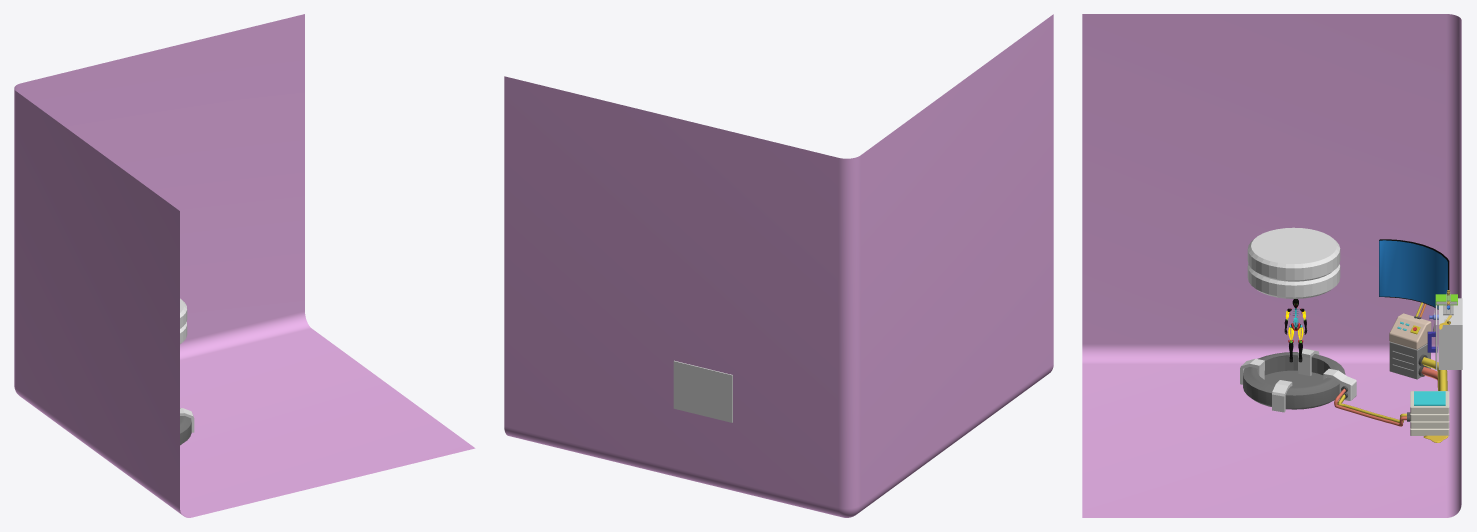
File: secondEs2.glb
3 views of the same model, side by side, from view 1: azimuth 30°, elevation 25°; view 2: azimuth 150°, elevation 25°; view 3: azimuth 270°, elevation 25° (orthographic). The views are drawn at different scales.
Parts seen in each view (by area): view 1: Cube.005, base; view 2: Cube.005, Cube.007; view 3: Cube.005, base, Cylinder.001, Cube.007, control, Cube.006, i-robot obj, Cube.003, Cube.004.
Boxes of the visible parts, box(x1,y1,x2,y2) form: Cube.005: box(14, 14, 475, 517); base: box(180, 298, 194, 445); Cube.005: box(504, 14, 1053, 517); Cube.007: box(673, 360, 732, 422); Cube.005: box(1082, 14, 1461, 517); base: box(1240, 227, 1356, 412); Cylinder.001: box(1379, 239, 1449, 309); Cube.007: box(1427, 298, 1462, 369); control: box(1389, 313, 1431, 349); Cube.006: box(1389, 341, 1430, 379); i-robot obj: box(1284, 299, 1307, 362); Cube.003: box(1410, 391, 1449, 413); Cube.004: box(1414, 391, 1445, 405).
Bounding box in the file's own units: 5.54 × 5.57 × 5.55.
Materials: 35 (1 with a texture image).
